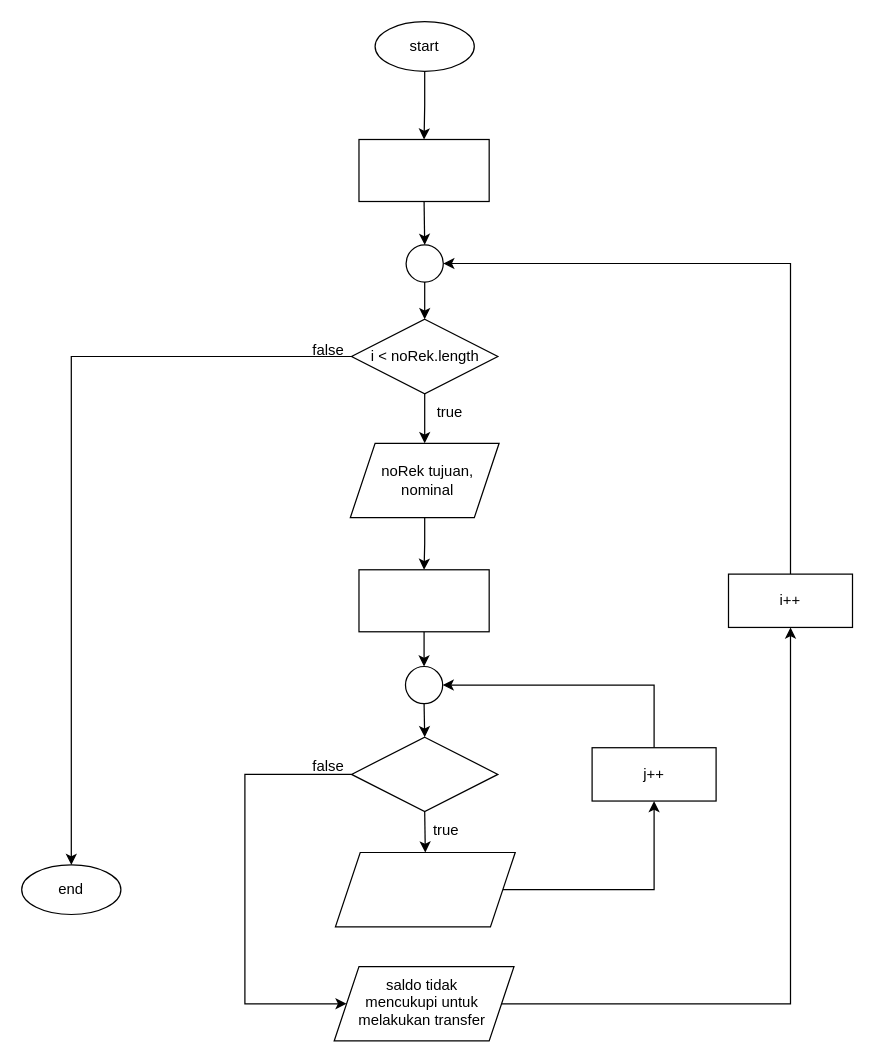
This 874x1063 diagram has some shape labels left out. Here are the shapes that lost their labels. From the top down, the centre of each, then its label:
[423,170]: int noRek int i = 0
[423,600]: int noRek int j = 0
[424,774]: j < noRek.length
[424,889]: sisa saldo, saldo Rek tujuan
